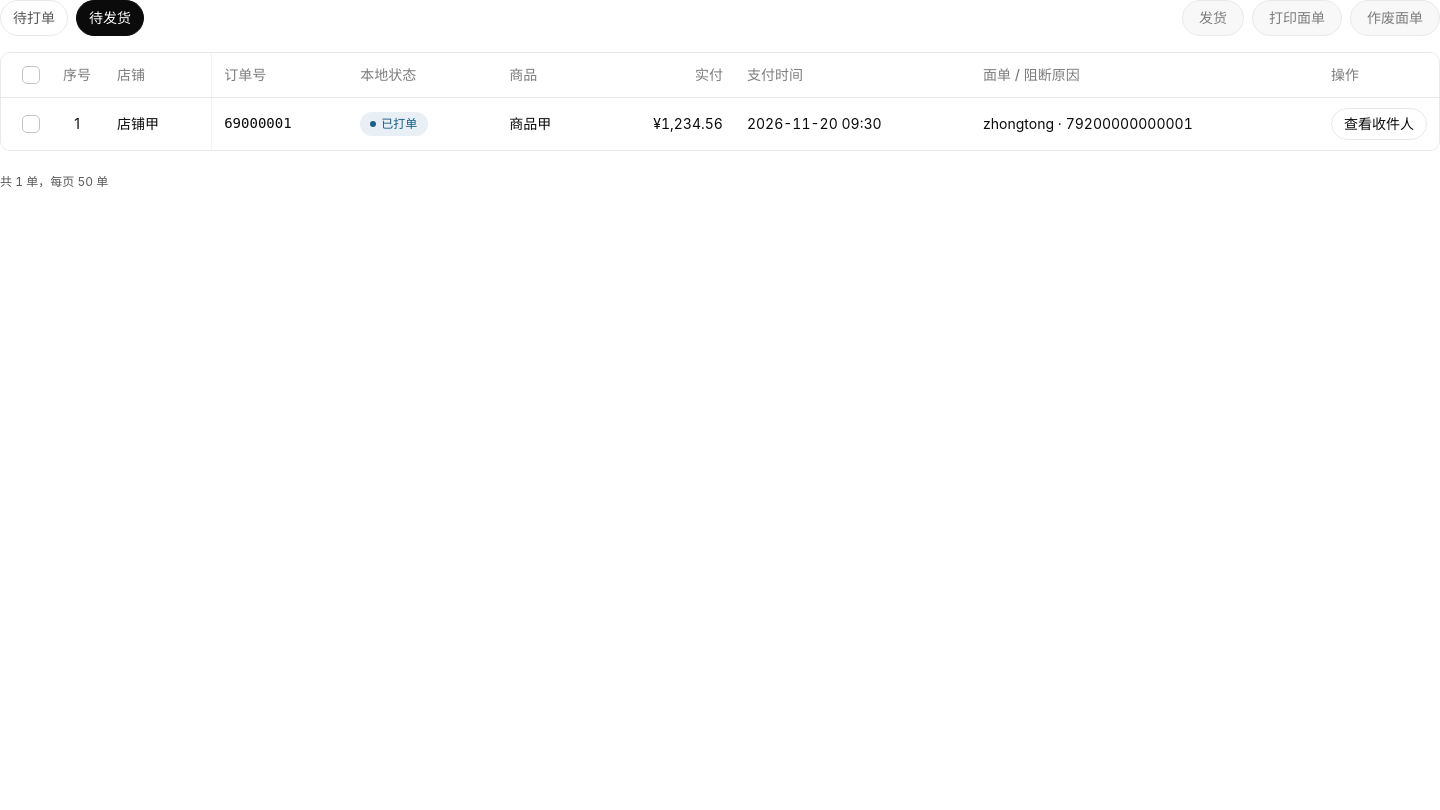
Test: 待发货阶段：发货（原发货台） › 不可发货订单与整店错误都列在检查结果里，不能确认
Click the checkbox named "选择订单 69000001" at (31, 124), box [13,106,49,142]
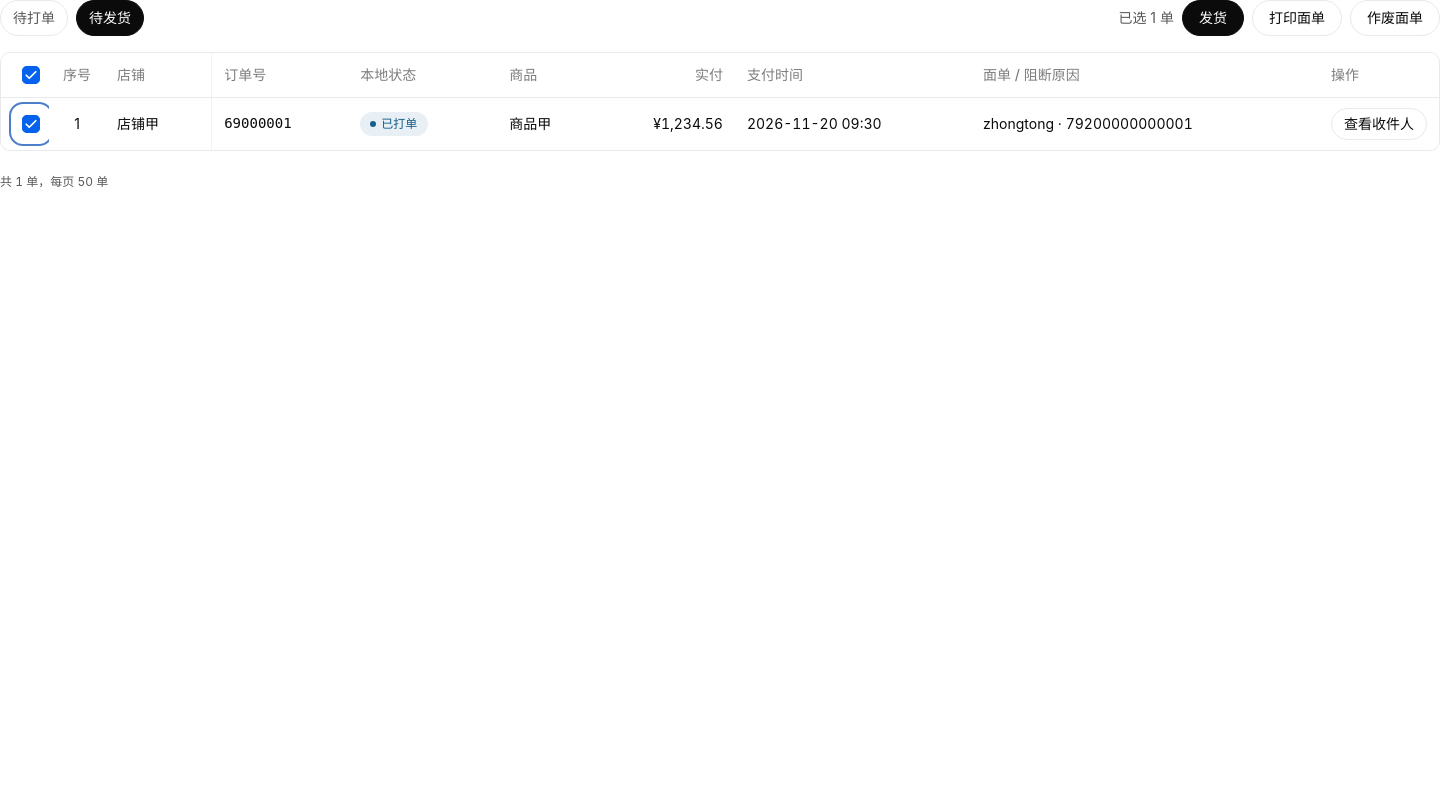
Click the button "发货" at (1213, 18), box [1182,0,1244,36]
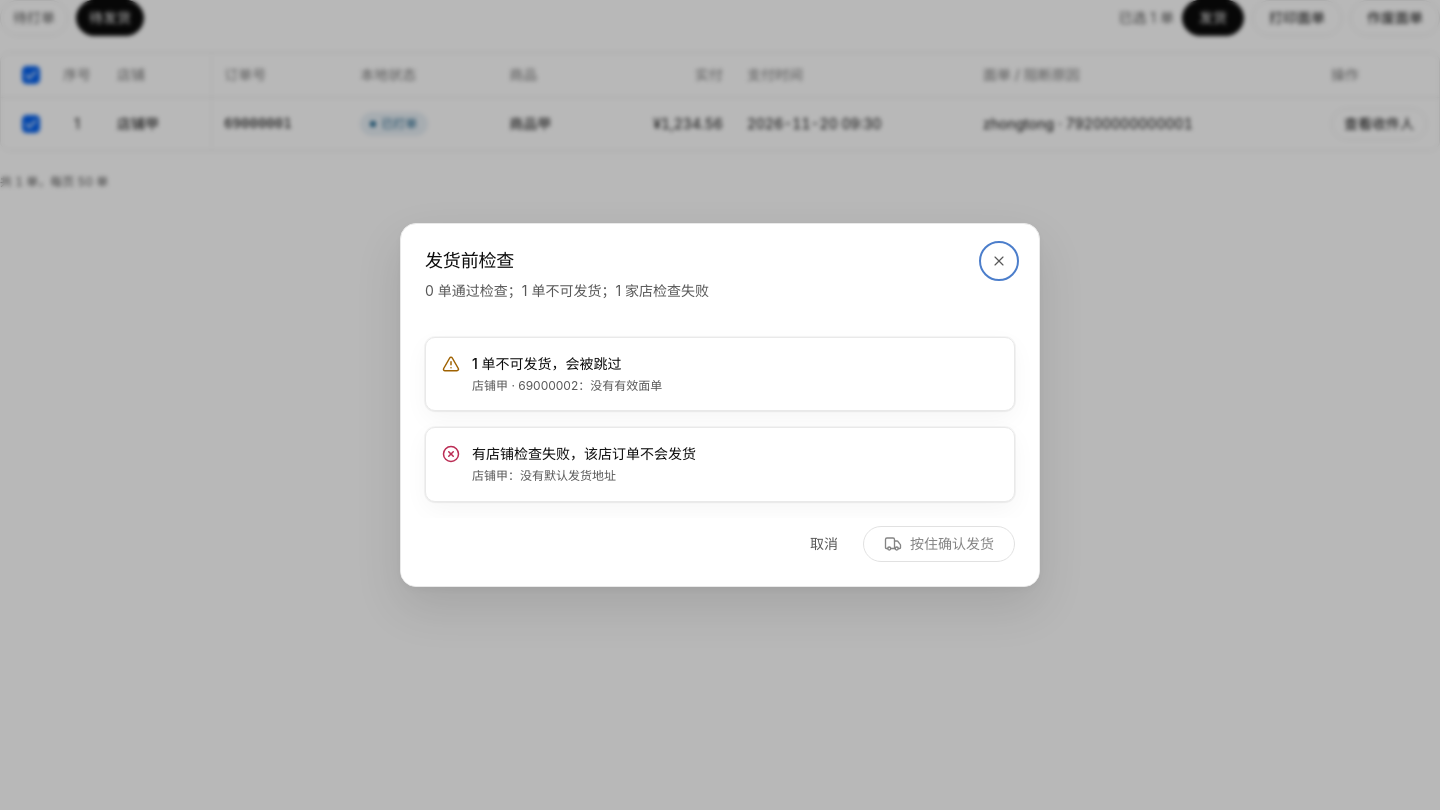
Expected: the list item "店铺甲 · 69000002：没有有效面单" is shown, [472,378,662,393]
Expected: the list item "店铺甲：没有默认发货地址" is shown, [472,468,616,483]
Expected: the button "按住确认发货 按住确认发货" is disabled, [863,526,1015,562]
